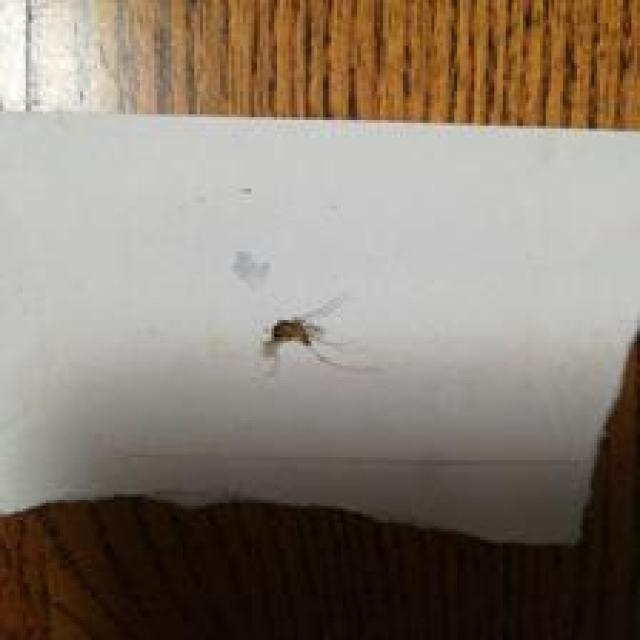Culex: (260, 294, 349, 369)
